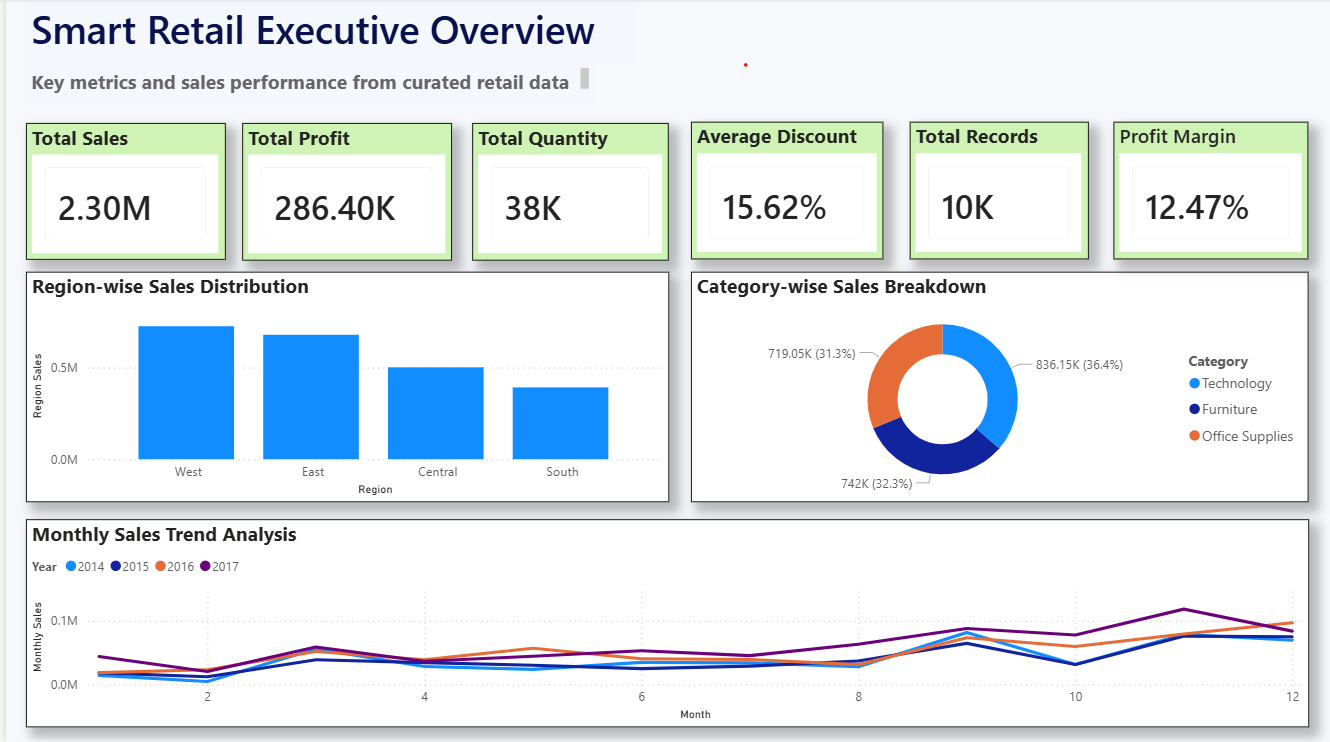

What the dashboard file says about the page in this screenshot:
{"tool":"powerbi","page":{"name":"Executive Overview","canvas":[1280,720],"ordinal":0},"visuals":[{"type":"textbox","box":[18.8,0,587,63.3],"z":0},{"type":"textbox","box":[18.8,63.3,547.9,39],"z":1000},{"type":"cardVisual","title":"Total Sales","fields":{"Data":["agent_insights.KPI Total Sales"]},"box":[18.8,121.2,192.5,131.9],"z":2000},{"type":"cardVisual","title":"Total Profit","fields":{"Data":["agent_insights.KPI Total Profit"]},"box":[228,120.6,202.7,132.7],"z":3000},{"type":"cardVisual","title":"Total Quantity","fields":{"Data":["agent_insights.KPI Total Quantity"]},"box":[450,120.6,189.4,132.7],"z":4000},{"type":"cardVisual","title":"Average Discount","fields":{"Data":["agent_insights.KPI Average Discount"]},"box":[661.1,119.4,185.8,132.7],"z":5000},{"type":"cardVisual","title":"Total Records","fields":{"Data":["agent_insights.KPI Total Records"]},"box":[872.3,119.4,172.5,132.7],"z":6000},{"type":"clusteredColumnChart","title":"Region-wise Sales Distribution","fields":{"Category":["curated_region_summary.Region"],"Y":["agent_insights.Region Sales"]},"box":[18.8,263.9,620.6,222.1],"z":7000},{"type":"donutChart","title":"Category-wise Sales Breakdown","fields":{"Y":["agent_insights.Category Sales"],"Category":["curated_category_summary.Category"]},"box":[661,263.9,596.4,222.1],"z":8000},{"type":"lineChart","title":"Monthly Sales Trend Analysis","fields":{"Category":["curated_monthly_summary.Month"],"Series":["curated_monthly_summary.Year"],"Y":["agent_insights.Monthly Sales"]},"box":[18.8,503.5,1238.5,200.6],"z":9000},{"type":"cardVisual","title":"Profit Margin","fields":{"Data":["agent_insights.KPI Profit Margin"]},"box":[1068.9,119.4,188.2,132.7],"z":10000}]}

Visuals, with their boxes in screenshot pixels (x1, y1, x2, y2), scaled from the page's 1280x720 canvas onto the 1330x742 screenshot:
textbox: left=20, top=0, right=629, bottom=65
textbox: left=20, top=65, right=589, bottom=105
"Total Sales" cardVisual: left=20, top=125, right=220, bottom=261
"Total Profit" cardVisual: left=237, top=124, right=448, bottom=261
"Total Quantity" cardVisual: left=468, top=124, right=664, bottom=261
"Average Discount" cardVisual: left=687, top=123, right=880, bottom=260
"Total Records" cardVisual: left=906, top=123, right=1086, bottom=260
"Region-wise Sales Distribution" clusteredColumnChart: left=20, top=272, right=664, bottom=501
"Category-wise Sales Breakdown" donutChart: left=687, top=272, right=1307, bottom=501
"Monthly Sales Trend Analysis" lineChart: left=20, top=519, right=1306, bottom=726
"Profit Margin" cardVisual: left=1111, top=123, right=1306, bottom=260
